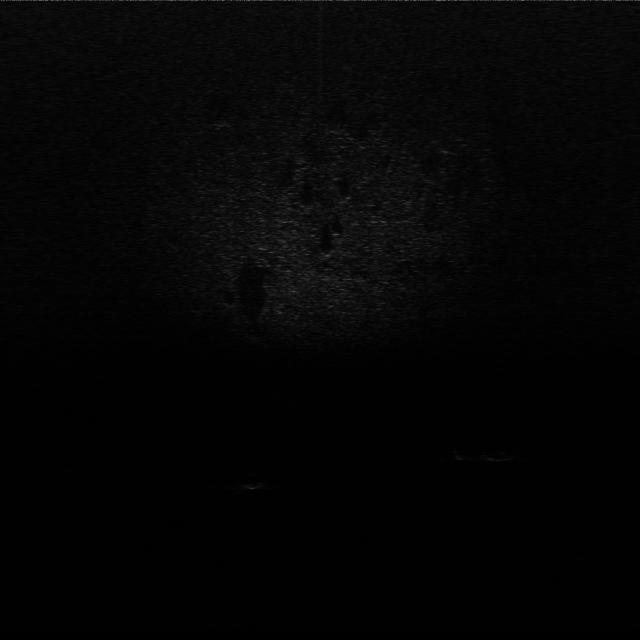ball: (236, 471, 270, 492)
human body: (441, 441, 532, 464)
